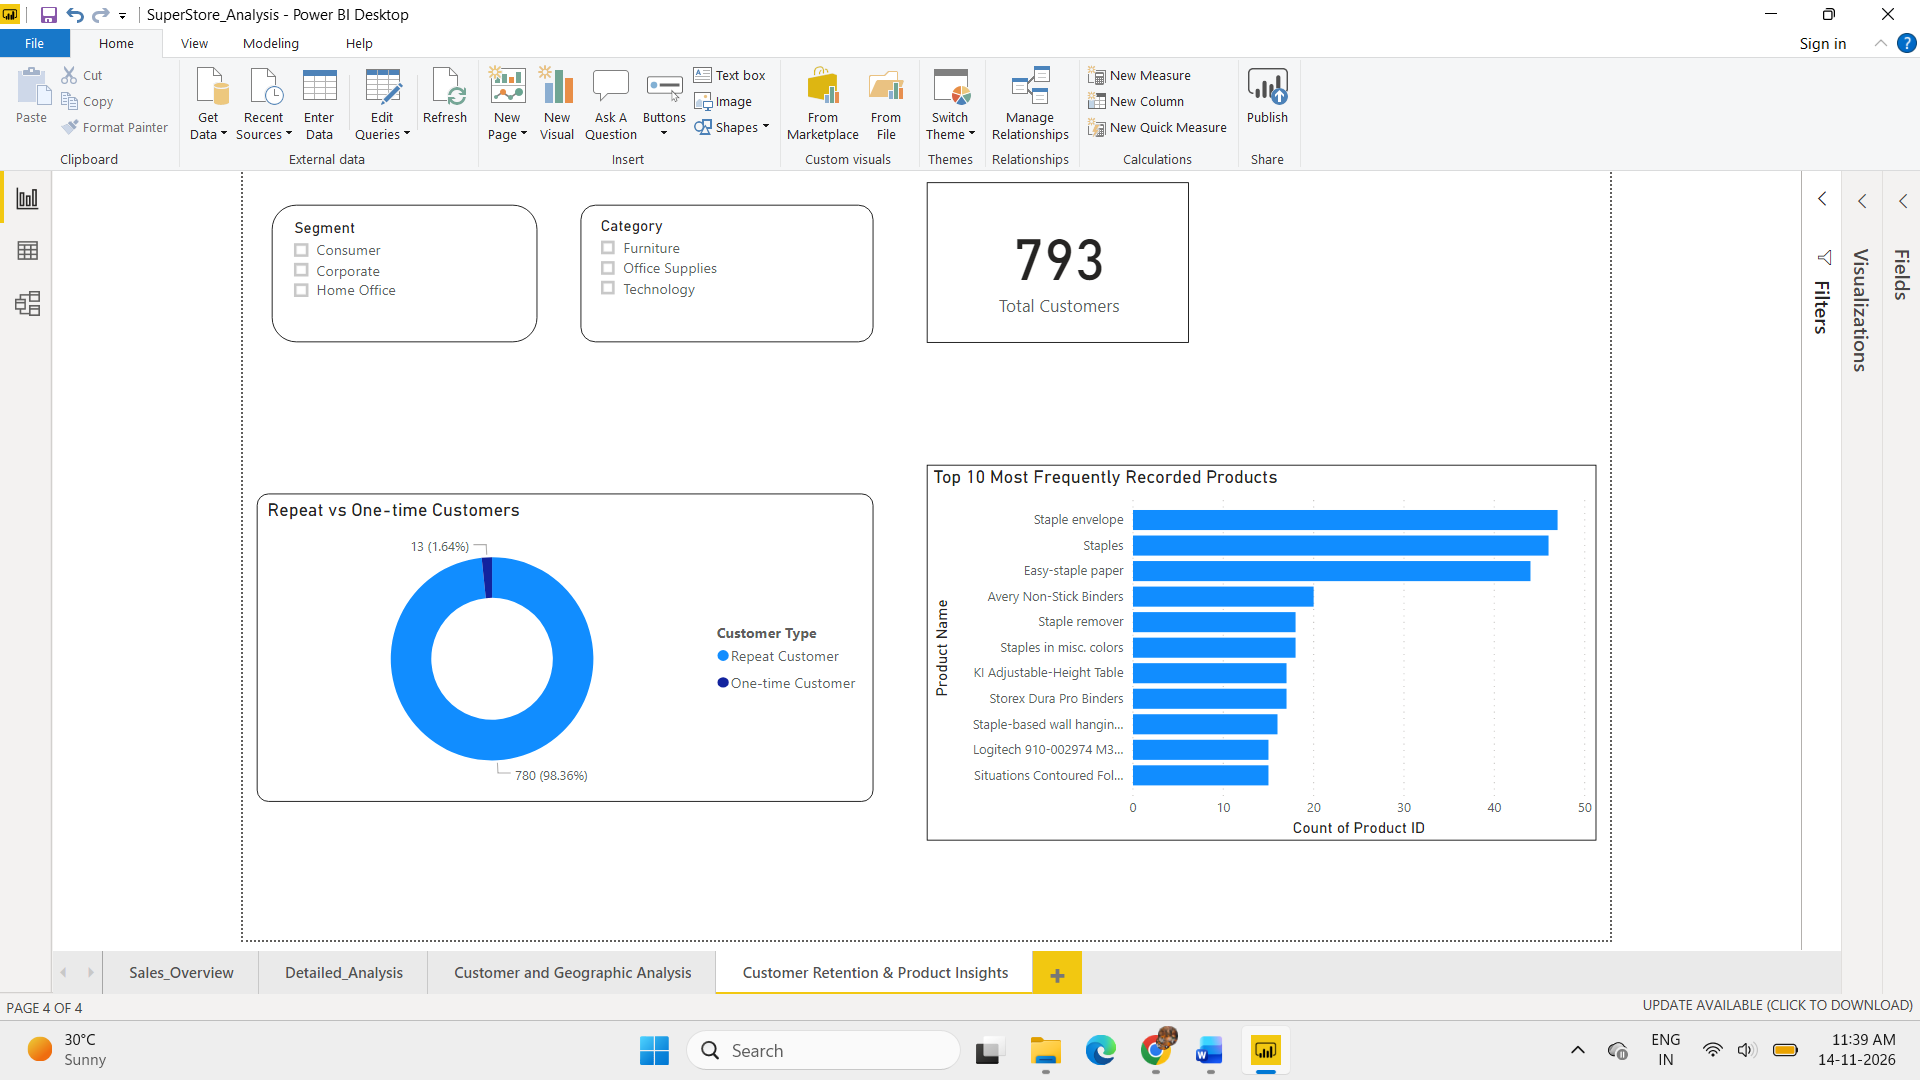

Layout of this report page (visuals, bound fields, positions):
{"tool":"powerbi","page":{"name":"Customer Retention & Product Insights","canvas":[1280,720],"ordinal":3},"visuals":[{"type":"donutChart","title":"Repeat vs One-time Customers","fields":{"Category":["Customer_Type.Customer Type"],"Y":["CountNonNull(Customer_Type.Customer ID)"]},"box":[12.9,301.8,577.8,288.9],"z":0},{"type":"clusteredBarChart","title":"Top 10 Most Frequently Recorded Products","fields":{"Category":["superstore.Product Name"],"Y":["CountNonNull(superstore.Product ID)"]},"box":[640,274.8,627.1,352.3],"z":1000},{"type":"slicer","fields":{"Values":["superstore.Segment"]},"box":[27,31.7,249,129.2],"z":2000},{"type":"slicer","fields":{"Values":["superstore.Category"]},"box":[315.9,31.7,274.8,129.2],"z":3000},{"type":"card","fields":{"Values":["superstore.Total Customers"]},"box":[640,10.6,245.4,150.3],"z":4000}]}

Visuals, with their boxes on the page's 1280x720 design canvas (x1, y1, x2, y2). These are canvas units, not pixel positions in the 1920x1080 screenshot, which may show the page scaled, cropped or inside an application window:
"Repeat vs One-time Customers" donutChart: bbox=(13, 302, 591, 591)
"Top 10 Most Frequently Recorded Products" clusteredBarChart: bbox=(640, 275, 1267, 627)
slicer - superstore.Segment: bbox=(27, 32, 276, 161)
slicer - superstore.Category: bbox=(316, 32, 591, 161)
card - superstore.Total Customers: bbox=(640, 11, 885, 161)
